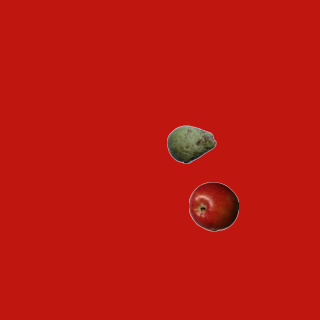Apple Braeburn: (188, 181, 238, 231)
Pear Stone: (166, 119, 216, 169)
